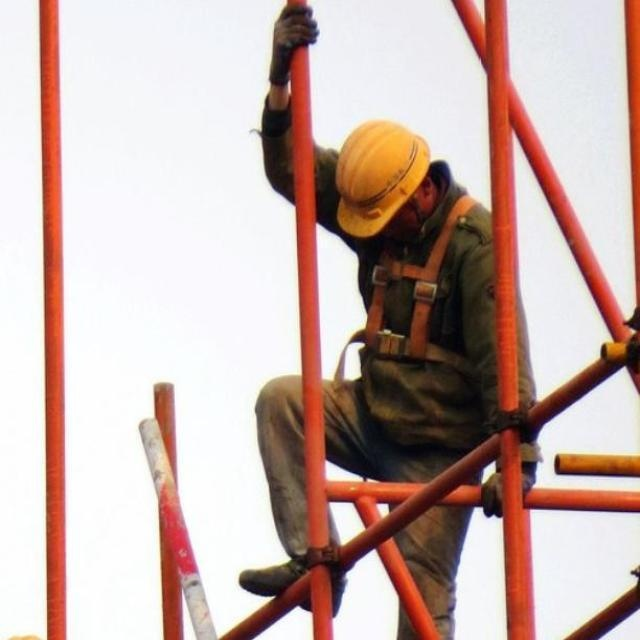Arnes_seguridad: (352, 190, 487, 381)
